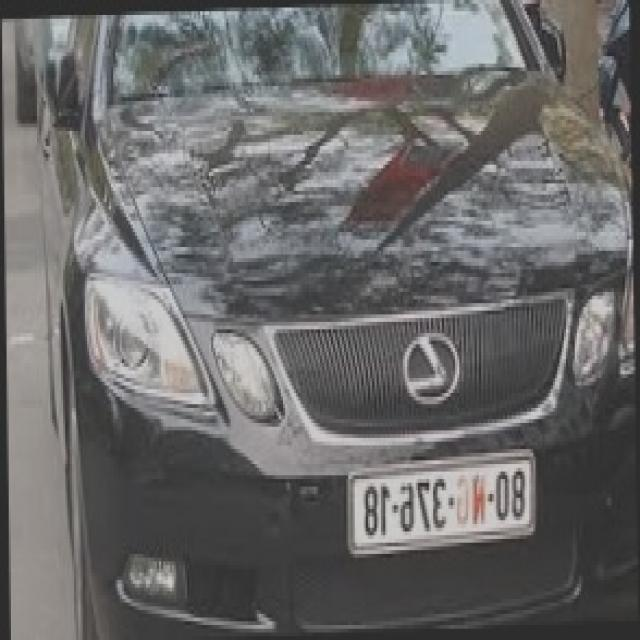bien_ngoai_giao: (349, 468, 532, 540)
